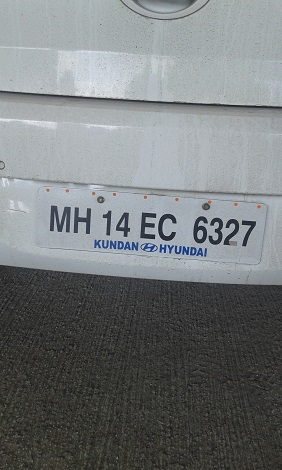licenseplate: (37, 183, 268, 270)
